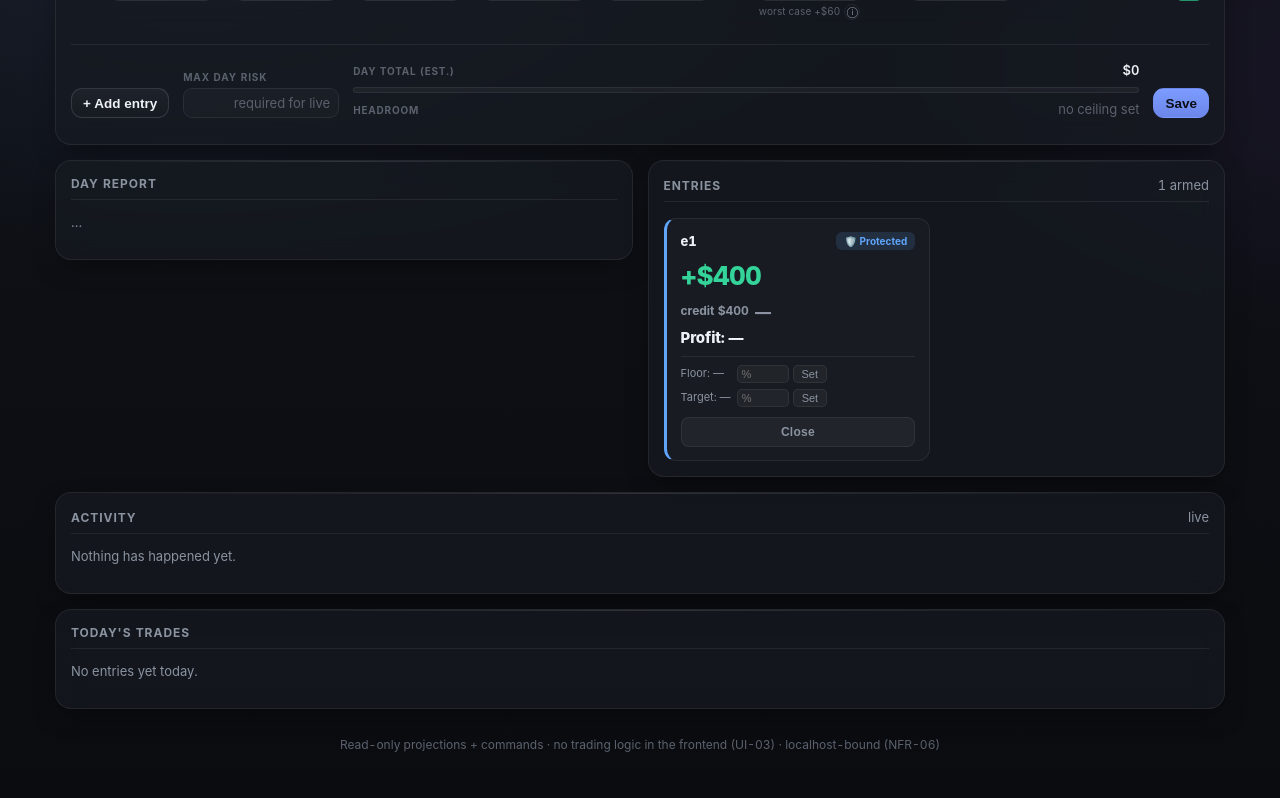
Test: App — Close / Flatten (UI-16 / TC-FLT-01) › close_partial toasts the closed and remaining sides — never a clean failure or a clean close (CLS-06)
(page scrolled)
Click the button "Close" at coordinates (798, 432), box x1=680 y1=417 x2=915 y2=447
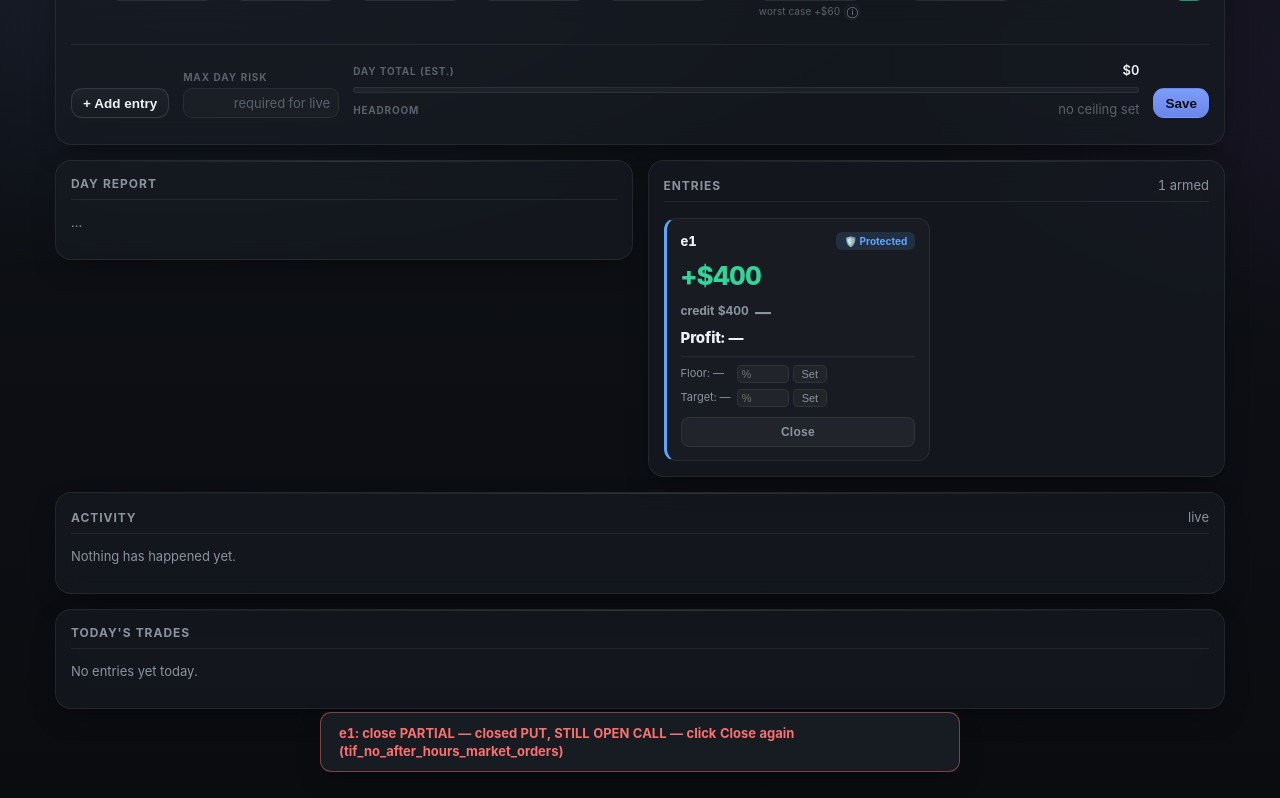
Now the text "close PARTIAL" shows "closed PUT", box x1=339 y1=725 x2=794 y2=759
Now the text "close PARTIAL" shows "STILL OPEN CALL", box x1=339 y1=725 x2=794 y2=759
Now the text "close PARTIAL" shows "click Close again", box x1=339 y1=725 x2=794 y2=759
